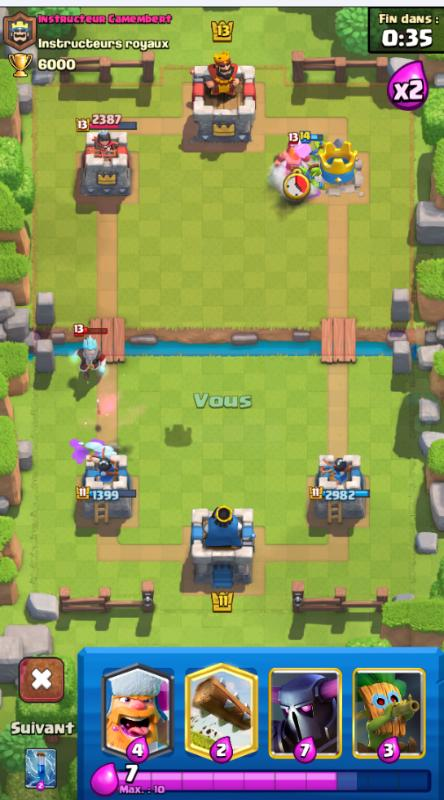gobelin: (300, 160, 330, 196), (303, 131, 329, 165)
